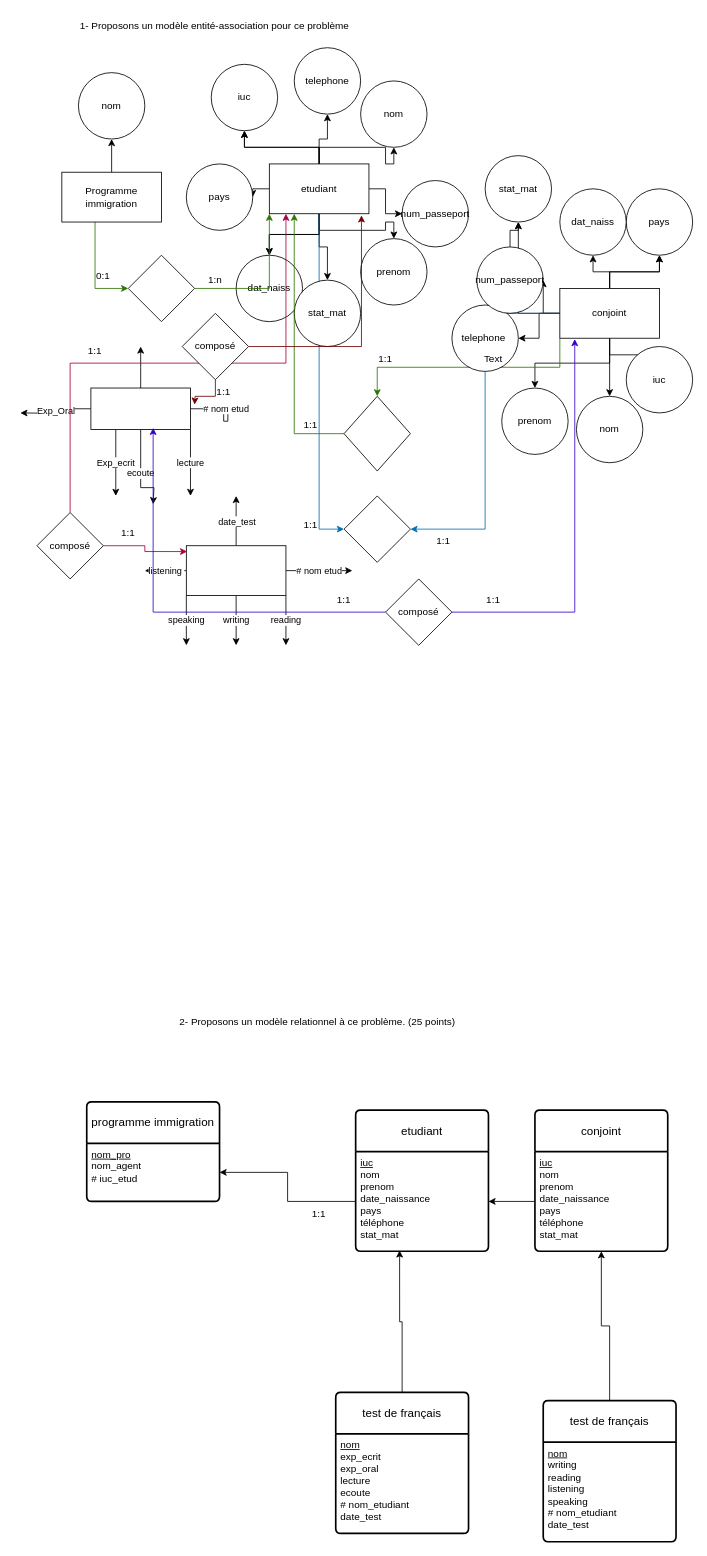
Some shapes in this 707 by 1556 pixel diagram are drawn without their labels. Each missing label, with the box of its shape:
inscrit: (127, 254, 195, 322)
marié à: (343, 395, 410, 471)
test de lang anglais: (186, 545, 286, 596)
test de lang français: (90, 387, 190, 430)
vit avec: (343, 495, 410, 562)
